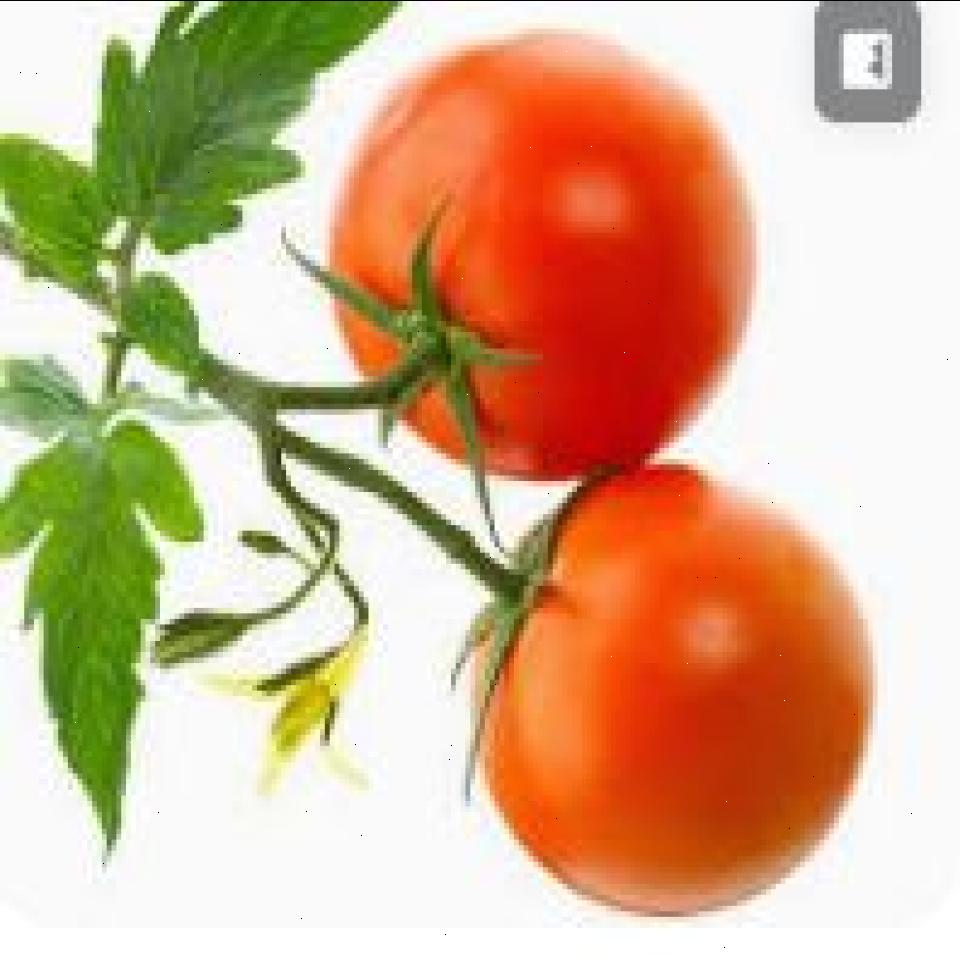Healthy: (376, 490, 879, 918), (301, 51, 779, 469)
